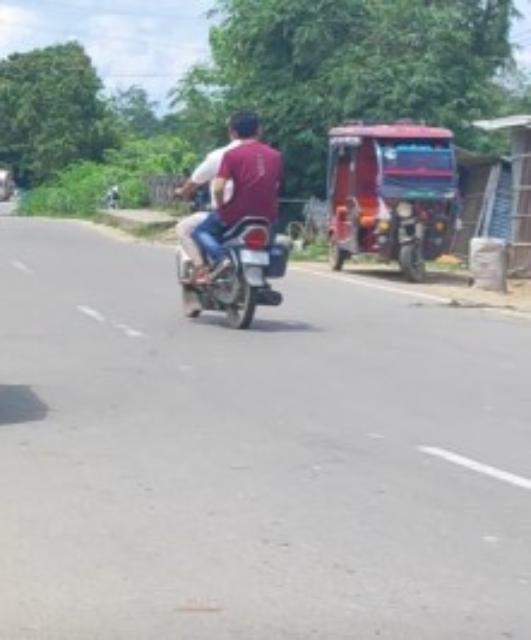licensePlate: (244, 249, 274, 266)
motorcycle: (178, 103, 296, 336)
withoutHelmet: (232, 109, 267, 144)
